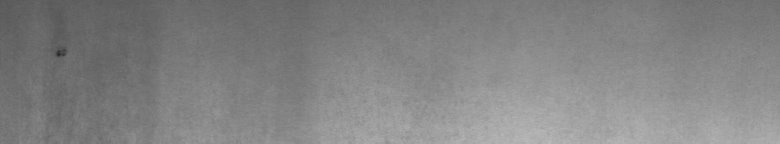fi: (52, 40, 71, 64)
